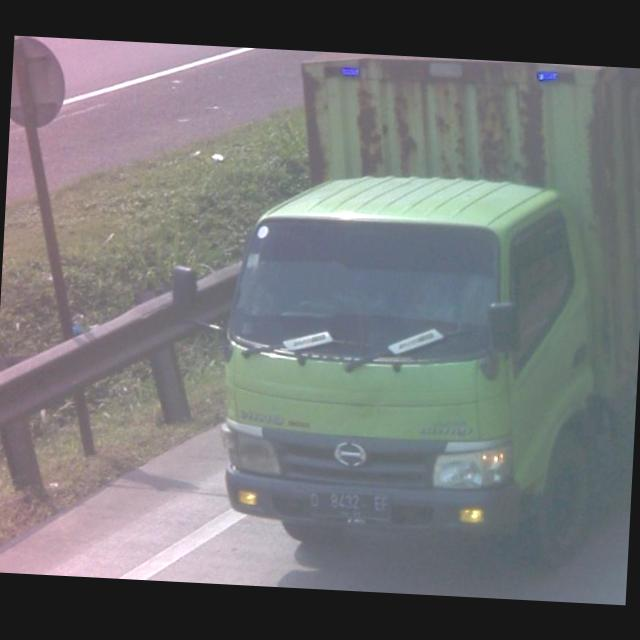plate: (308, 487, 392, 523)
